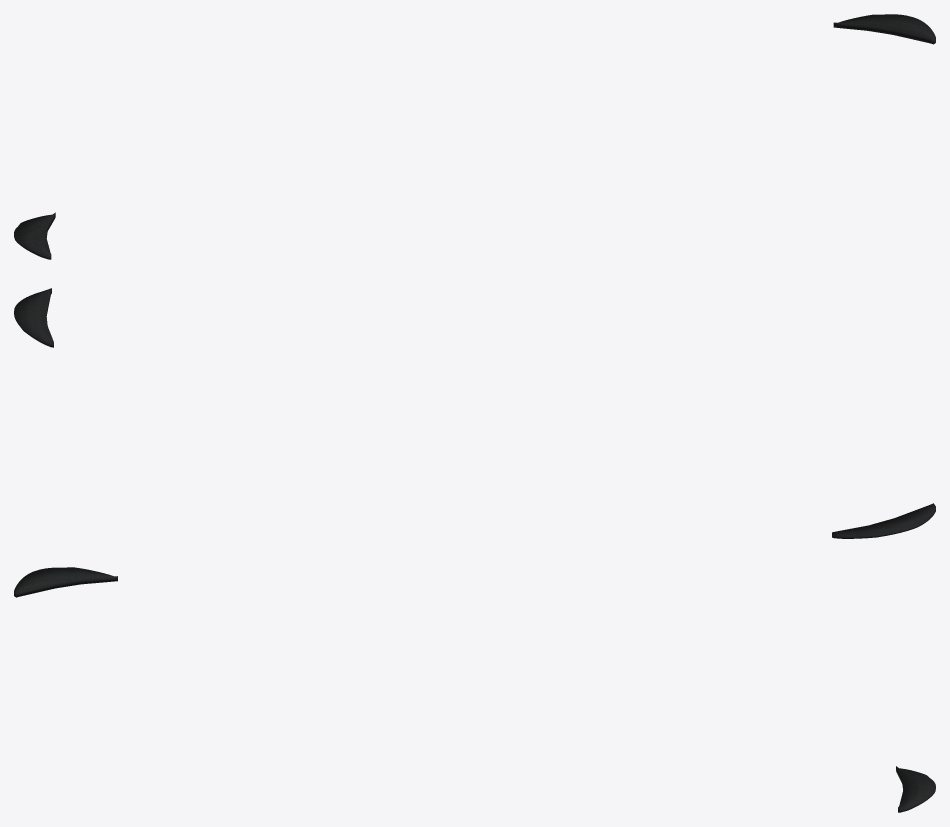
File: DT50_rear_canards.glb
The picture shows the model from 3 angles, top to bottom: view 1: azimuth 30°, elevation 25°; view 2: azimuth 150°, elevation 25°; view 3: azimuth 330°, elevation 25°; orthographic projection.
Visible parts, largest first — view 1: MOD_NA_DT50_canard_L, MOD_NA_DT50_canard_R; view 2: MOD_NA_DT50_canard_R, MOD_NA_DT50_canard_L; view 3: MOD_NA_DT50_canard_R, MOD_NA_DT50_canard_L.
Part boxes in pixels (bbox=[...]): MOD_NA_DT50_canard_L: bbox=[833, 14, 935, 44]; MOD_NA_DT50_canard_R: bbox=[14, 212, 55, 259]; MOD_NA_DT50_canard_R: bbox=[832, 503, 935, 538]; MOD_NA_DT50_canard_L: bbox=[14, 288, 53, 347]; MOD_NA_DT50_canard_R: bbox=[14, 567, 117, 597]; MOD_NA_DT50_canard_L: bbox=[896, 766, 935, 812].
Size of the model in its own units: 1.49 by 0.018 by 0.1422.
1 material, 1 textured.
